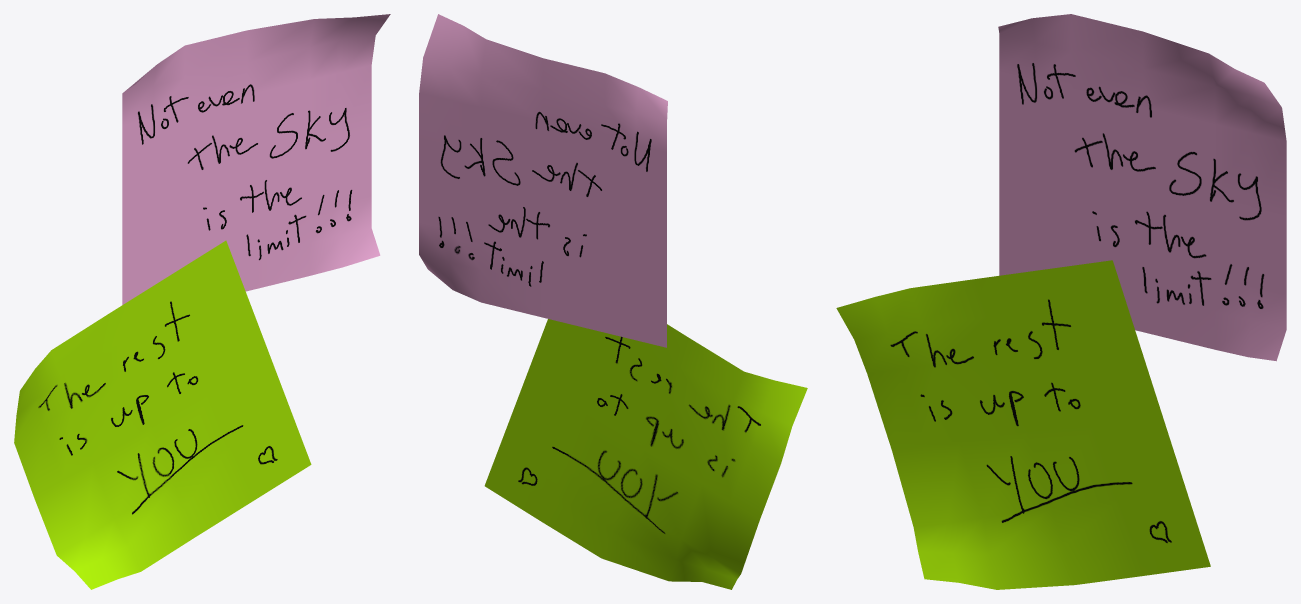
Rendered from postit.fbx.
The picture shows the model from 3 angles, left to right: view 1: azimuth 30°, elevation 25°; view 2: azimuth 150°, elevation 25°; view 3: azimuth 330°, elevation 25°; orthographic projection. The views are drawn at different scales.
Visible parts, largest first — view 1: Plane; view 2: Plane; view 3: Plane.
Boxes of the visible parts, <box> form: Plane: <box>14,14,390,589</box>; Plane: <box>419,14,807,589</box>; Plane: <box>836,14,1286,589</box>.
Size of the model in its own units: 2.98 by 0.2717 by 3.87.
1 material, 1 textured.
